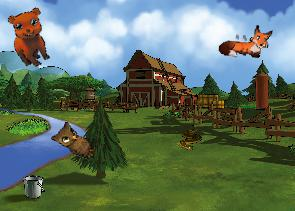bear: (0, 2, 63, 72)
fox: (218, 21, 273, 61)
owl: (49, 118, 102, 160)
